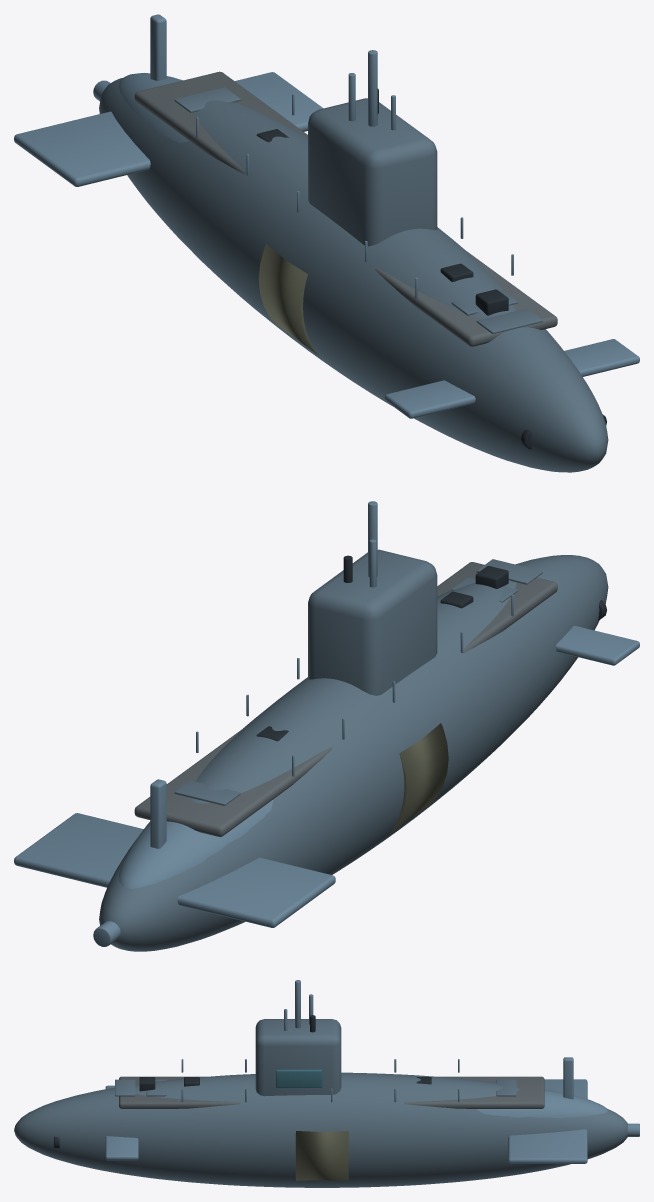
File: hero-submarine-lod0-merged.glb
3 views of the same model, one above another, from view 1: azimuth 30°, elevation 25°; view 2: azimuth 150°, elevation 25°; view 3: azimuth 270°, elevation 25° (orthographic). The views are drawn at different scales.
Parts seen in each view (by area): view 1: HeroSubmarine; view 2: HeroSubmarine; view 3: HeroSubmarine.
Boxes of the visible parts, x1,y1,x2,y2 form: HeroSubmarine: (14,14,639,472); HeroSubmarine: (14,501,639,951); HeroSubmarine: (14,980,639,1187).
Size of the model in its own units: 6 by 7.03 by 19.7.
